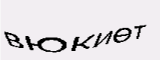А: (114, 15, 133, 38)
И: (84, 7, 100, 40), (100, 10, 115, 37)
Щ: (17, 13, 61, 46)
Я: (61, 7, 86, 49)
